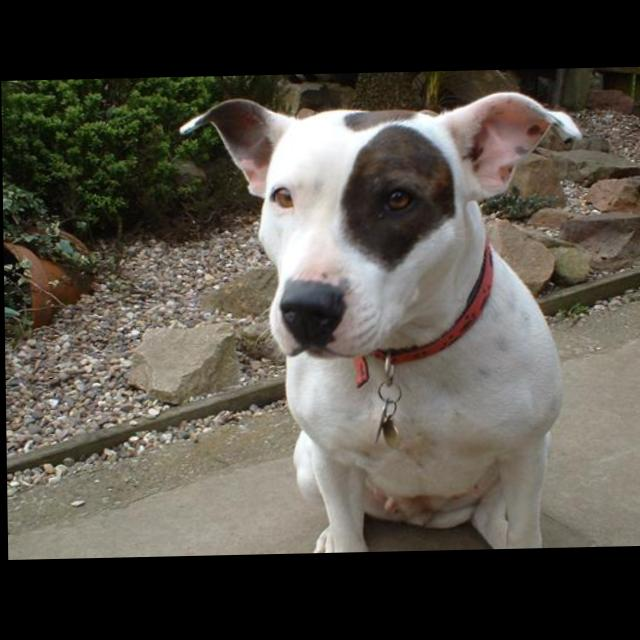staffford: (178, 89, 586, 558)
